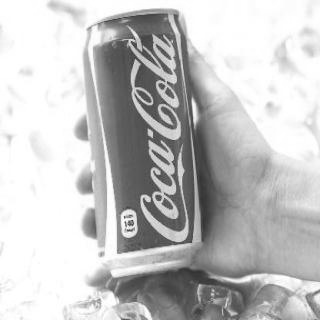alumunium_can: (83, 7, 206, 277)
